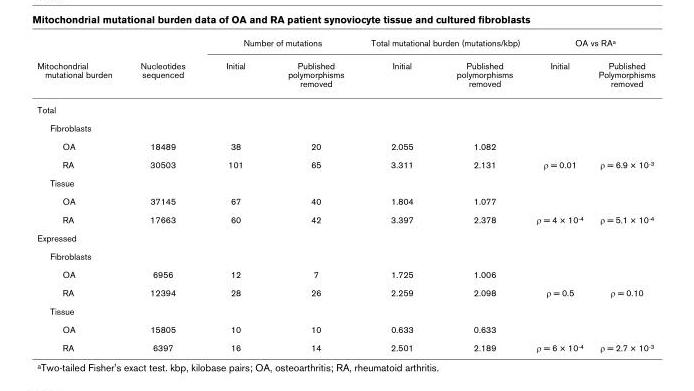table: (36, 36, 654, 352)
table column: (434, 36, 527, 352), (265, 36, 356, 352), (36, 36, 125, 352), (125, 36, 205, 352), (356, 36, 434, 352), (590, 36, 654, 352), (527, 36, 590, 352), (205, 36, 265, 352)
table column header: (36, 36, 654, 96)
table projected row header: (36, 96, 654, 118), (36, 118, 654, 136), (36, 173, 654, 191), (36, 228, 654, 246), (36, 246, 654, 264), (36, 301, 654, 319)
table row: (36, 53, 654, 96), (36, 96, 654, 118), (36, 154, 654, 173), (36, 209, 654, 228), (36, 282, 654, 301), (36, 118, 654, 136), (36, 136, 654, 154), (36, 173, 654, 191), (36, 191, 654, 209), (36, 228, 654, 246), (36, 246, 654, 264), (36, 264, 654, 282), (36, 301, 654, 319), (36, 319, 654, 337), (36, 36, 654, 53), (36, 337, 654, 352)
table spanning cell: (36, 36, 125, 96), (125, 36, 205, 96), (356, 36, 527, 53), (205, 36, 356, 53), (527, 36, 654, 53)
